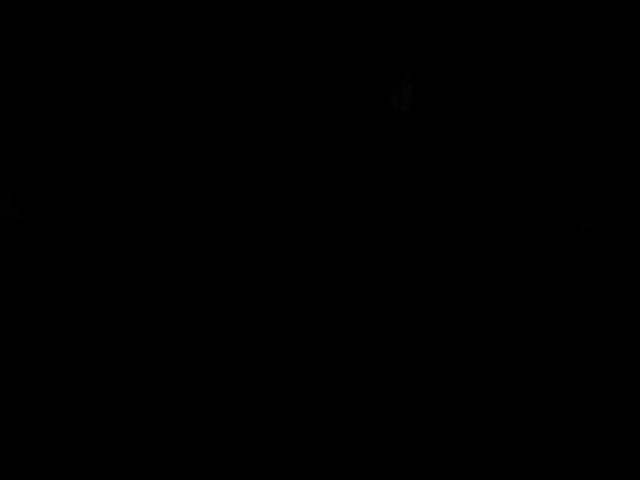iha: (376, 258, 400, 283)
